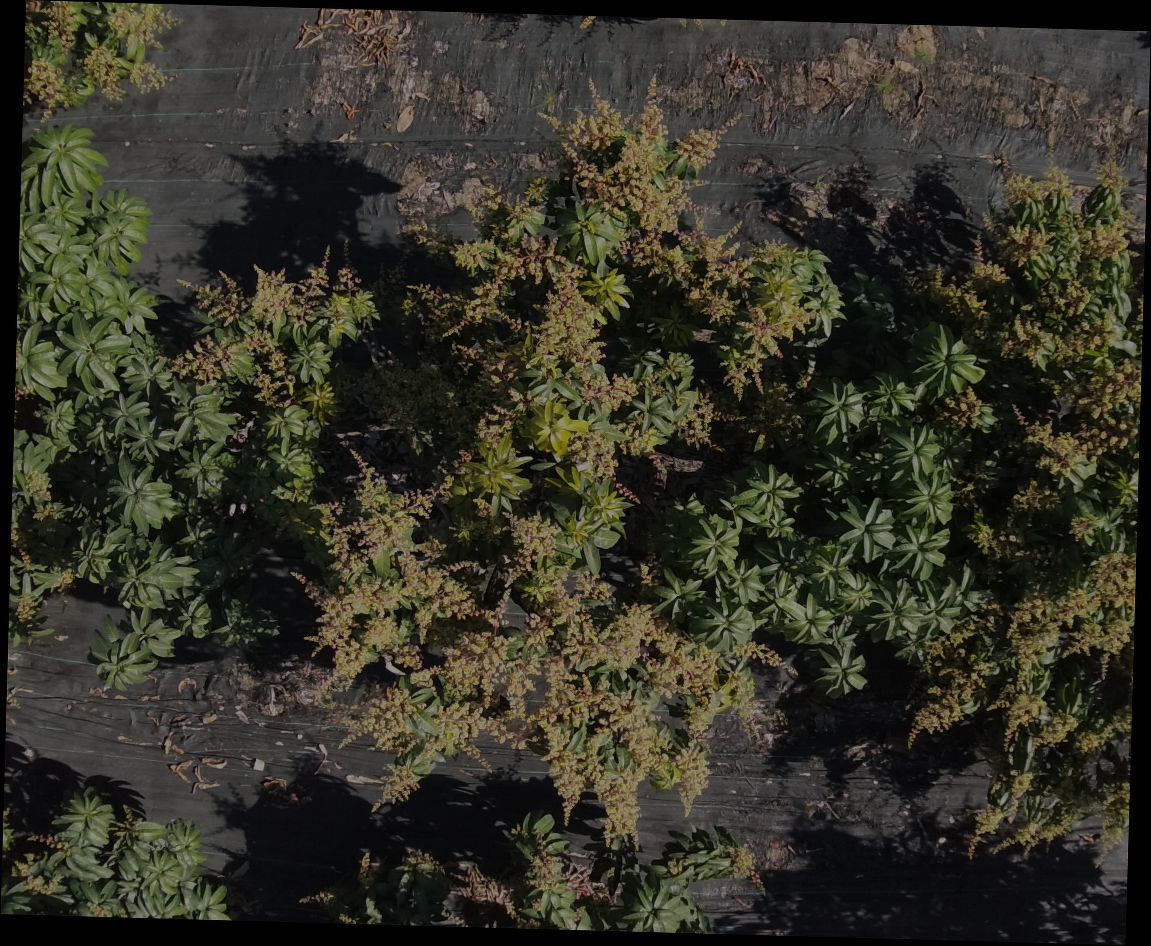flowers: (313, 479, 756, 837), (542, 97, 841, 392), (916, 169, 1142, 544), (914, 550, 1133, 847), (373, 232, 637, 452), (175, 264, 376, 421), (25, 2, 177, 118), (676, 396, 741, 448), (568, 432, 619, 482), (935, 388, 994, 431), (968, 511, 1002, 558), (619, 422, 662, 457)
